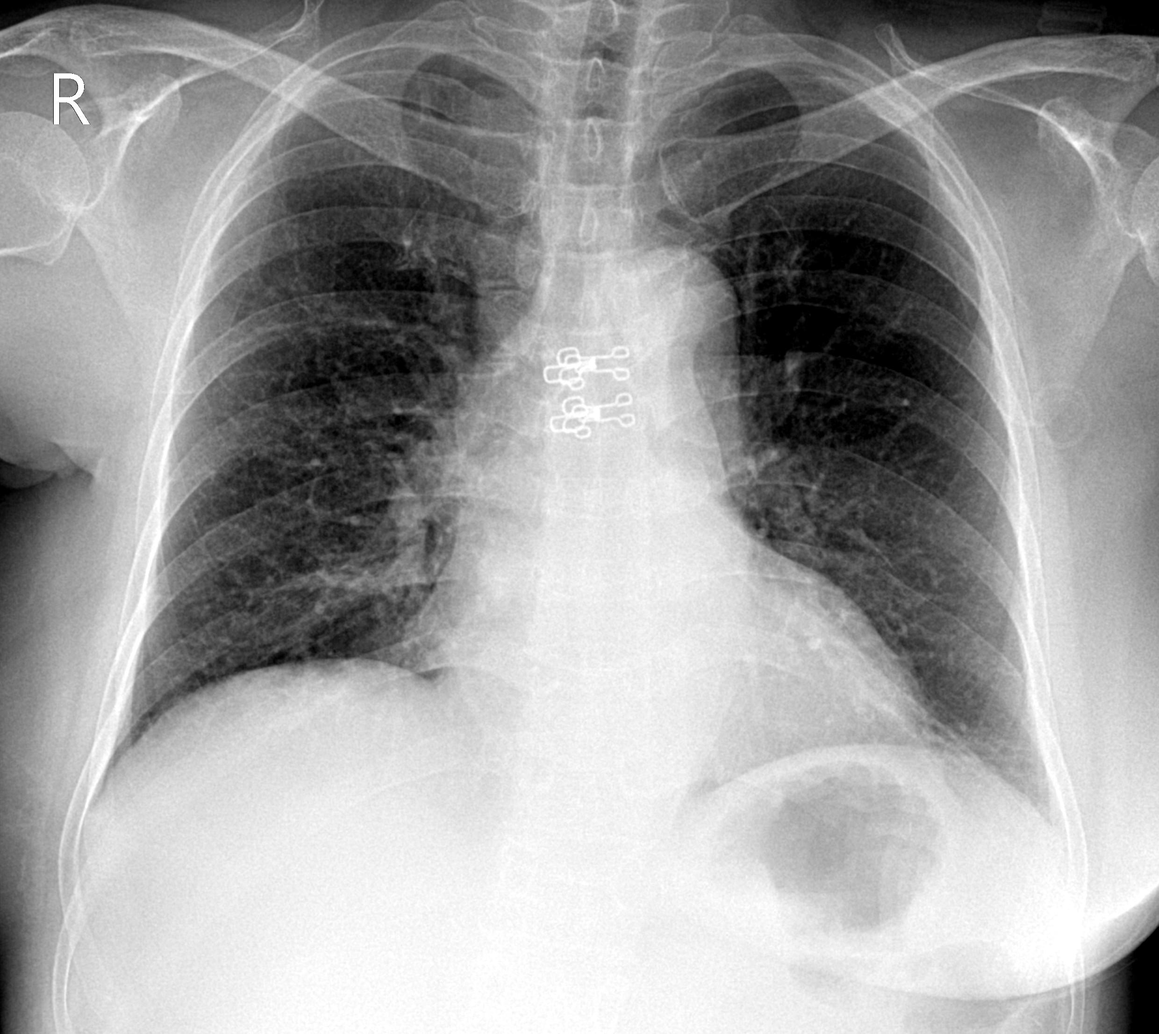Aortic enlargement: (531, 248, 736, 407)
Cardiomegaly: (394, 582, 930, 797)
